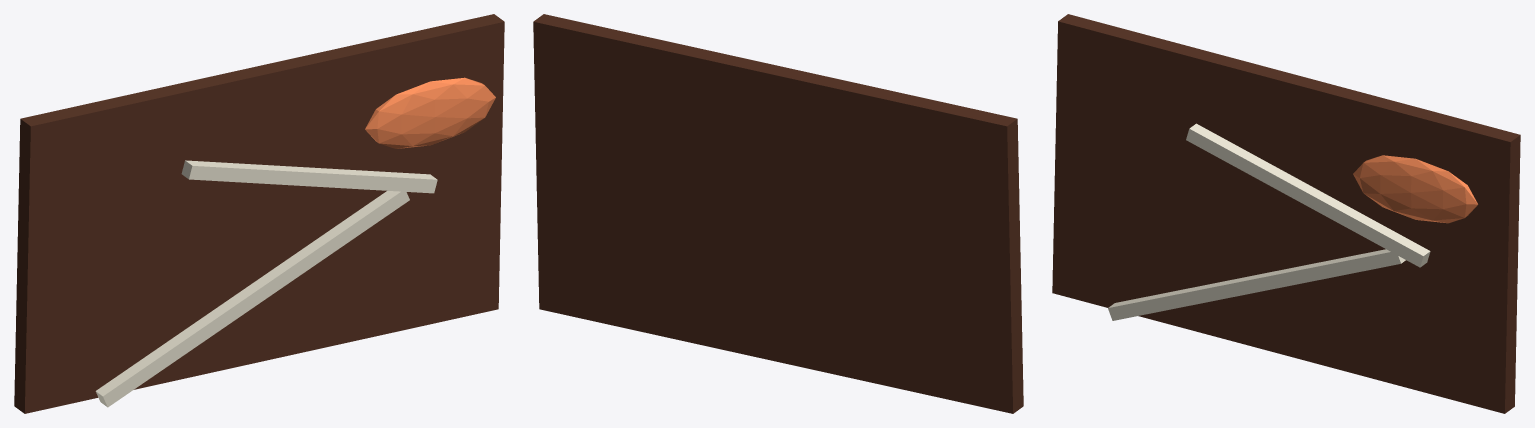
File: 04_weathering_wear_overlay_4.glb
3 views of the same model, side by side, from view 1: azimuth 30°, elevation 25°; view 2: azimuth 150°, elevation 25°; view 3: azimuth 330°, elevation 25° (orthographic). The views are drawn at different scales.
Visible parts, largest first — view 1: wear_plate, scratch_a, rust_or_moss_spot, scratch_b; view 2: wear_plate; view 3: wear_plate, rust_or_moss_spot, scratch_b, scratch_a.
Boxes of the visible parts, box(x1,y1,x2,y2) form: wear_plate: box(14, 14, 504, 413); scratch_a: box(95, 191, 409, 407); rust_or_moss_spot: box(365, 77, 495, 148); scratch_b: box(181, 160, 437, 193); wear_plate: box(533, 14, 1023, 413); wear_plate: box(1052, 14, 1520, 413); rust_or_moss_spot: box(1353, 155, 1477, 223); scratch_b: box(1186, 123, 1430, 267); scratch_a: box(1108, 249, 1405, 320).
Size of the model in its own units: 1.32 by 0.7784 by 0.134.
